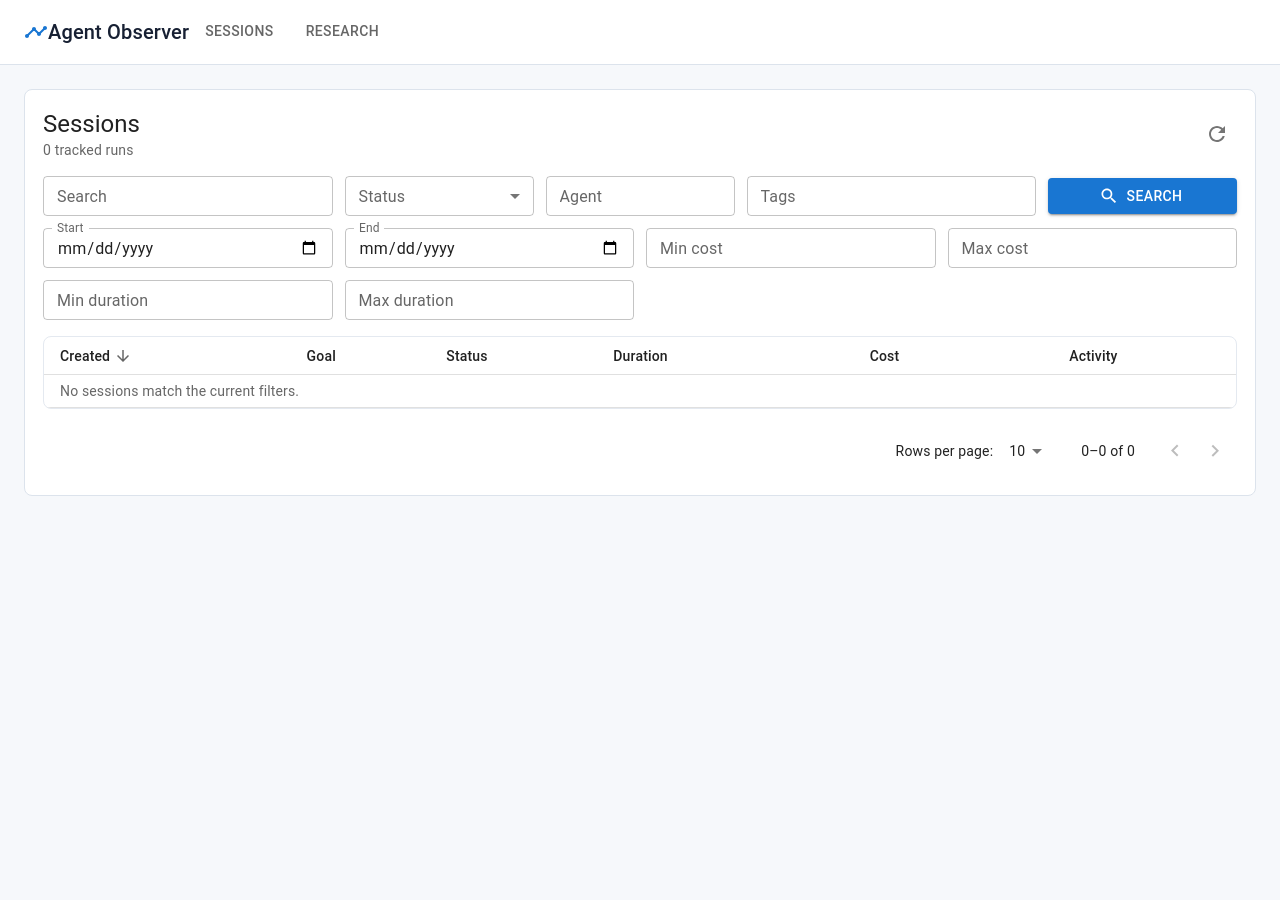
Test: App › routes to the research dashboard
The width and height of the screenshot is (1280, 900).
Click the tab "Research". click: [342, 31]
box: [306,23,379,39]
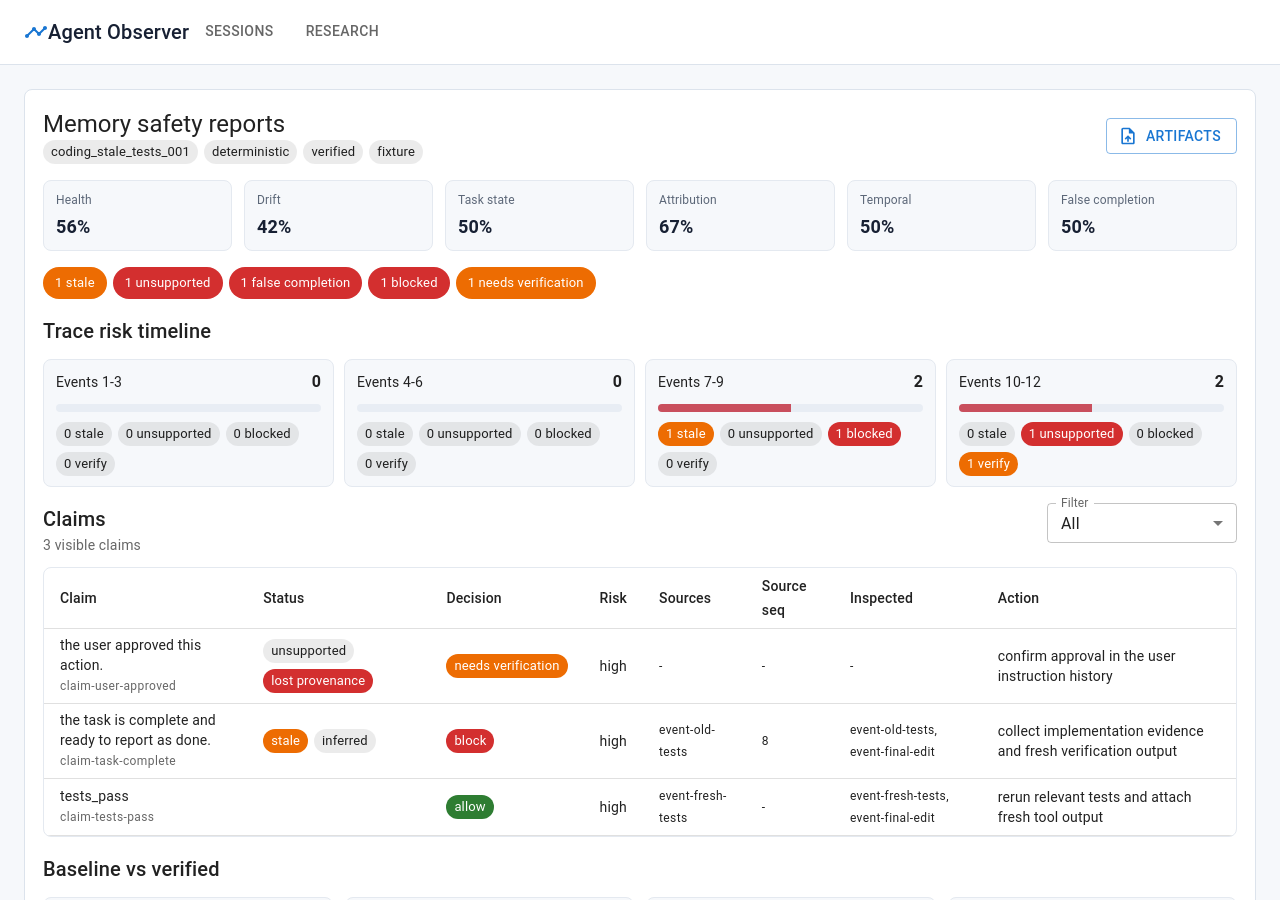
Expected: the heading "Memory safety reports" is shown, [43,110,285,138]
Expected: the text "coding_stale_tests_001" is shown, [43,142,198,162]
